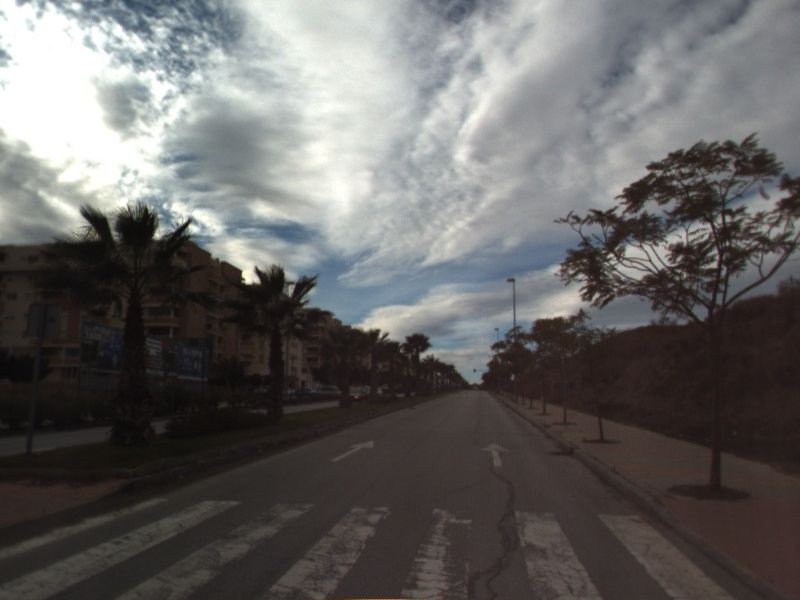STRAIGHT: (329, 438, 376, 463), (479, 441, 512, 470)
